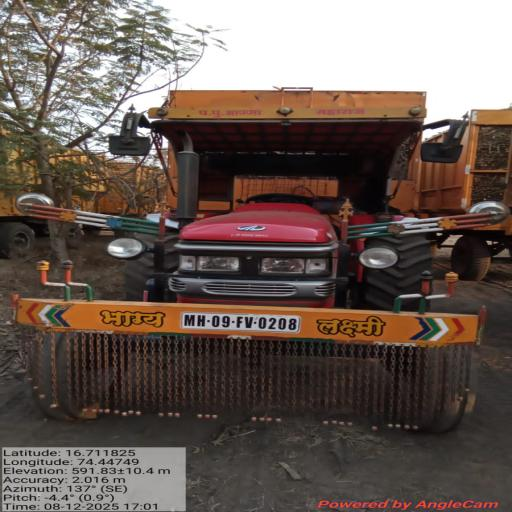number_plate: (170, 303, 318, 341)
